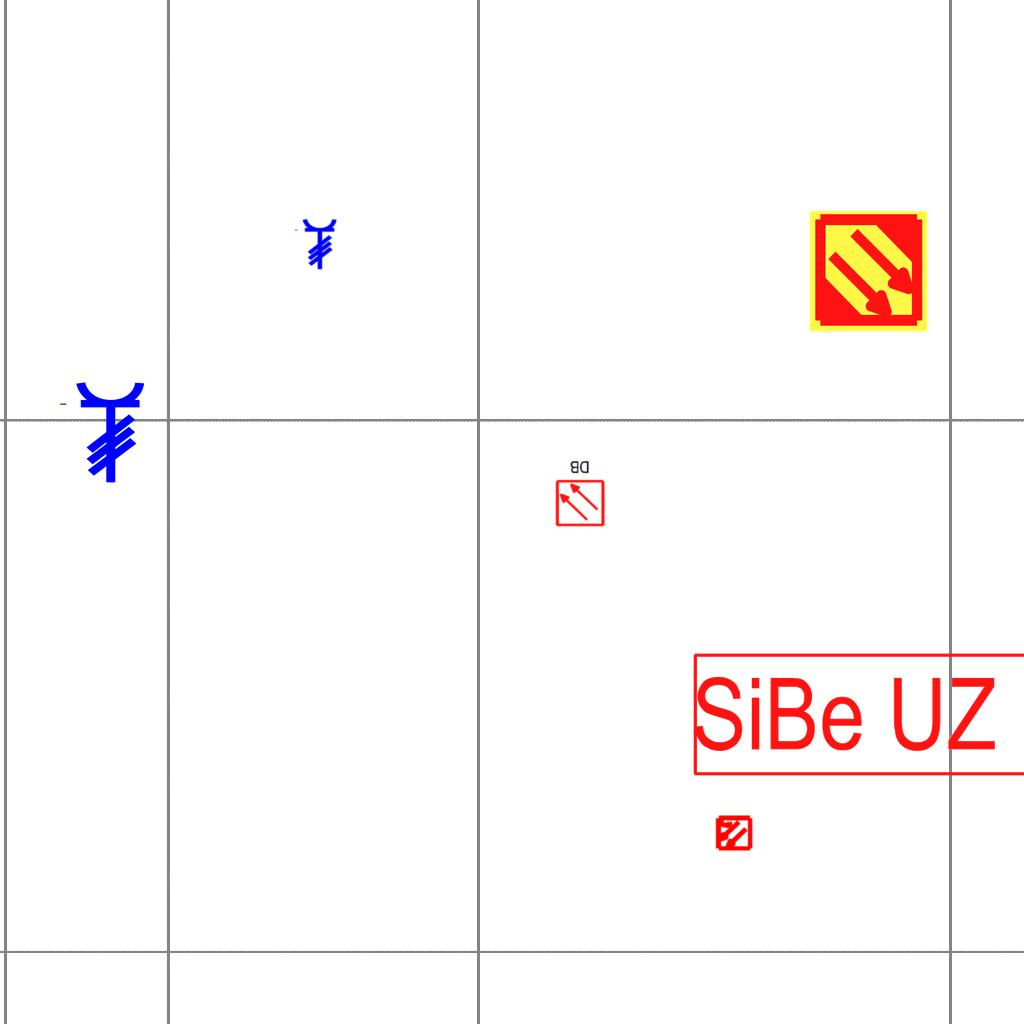ASR_Ansaugrauchmelder: (806, 209, 931, 334)
CEE_Drehstrom_Steckdose_16_32_A: (57, 380, 147, 484), (293, 218, 338, 270)
DB_Melder_in_Doppelboden_mit_Revisionsoeffnung_mind_40_x_40_cm: (551, 456, 608, 530)
OT_Multisensormelder_(Kombination_RMO_WMD): (705, 805, 761, 861)
Zentrale_Sicherheitsbeleuchtung: (690, 650, 1024, 780)
